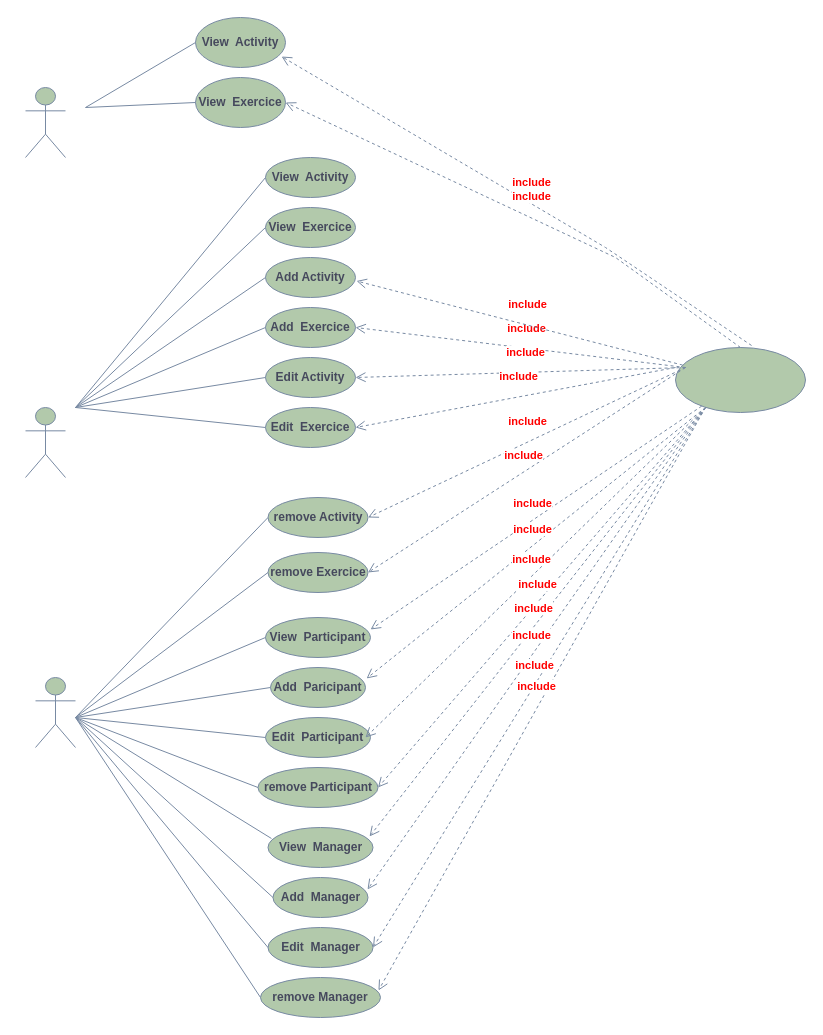
The diagram is 823 pixels wide and 1035 high, and some of its shapes have lost their labels. The box of each missing label's shape, as (x1, y1, x2, y2) in pixels:
Admin: (34, 676, 76, 748)
Authenticate: (674, 346, 806, 412)
Manager: (24, 406, 66, 478)
Participant: (24, 86, 66, 158)
